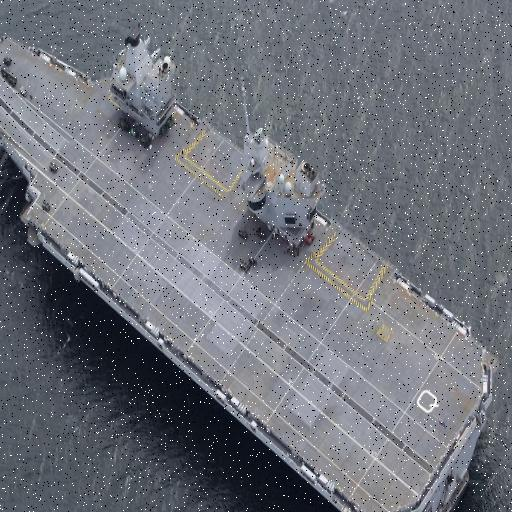Portanaves: (1, 16, 498, 512)
